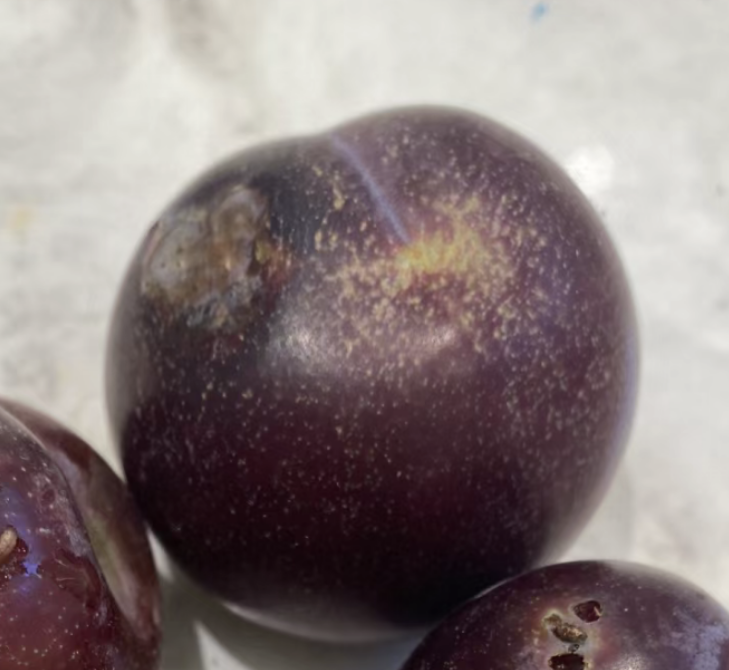plum_C: (103, 105, 641, 645)
